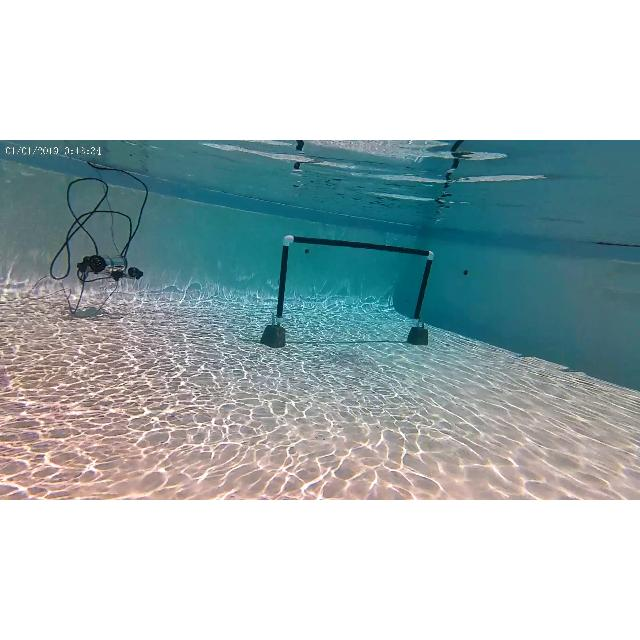prequal gate: (276, 235, 434, 325)
prequal gate leg l: (262, 235, 296, 348)
prequal gate leg r: (408, 244, 434, 346)
